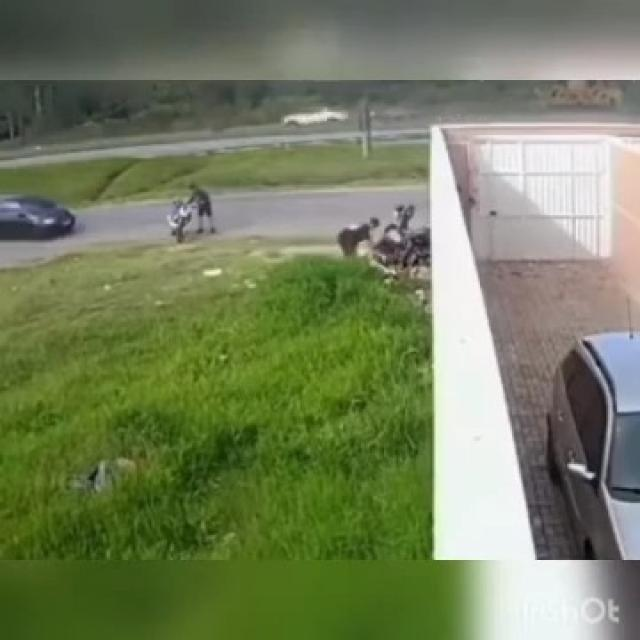accident: (380, 200, 440, 276)
